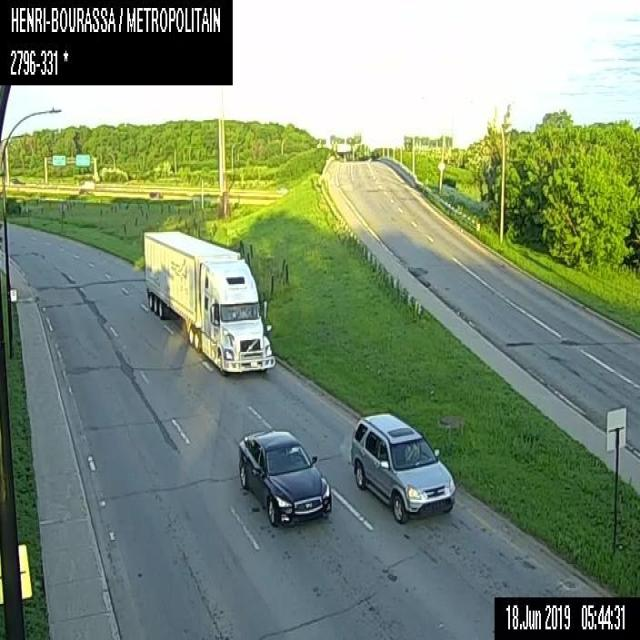vehicle: (143, 228, 275, 372), (348, 409, 453, 522), (237, 427, 331, 524)
